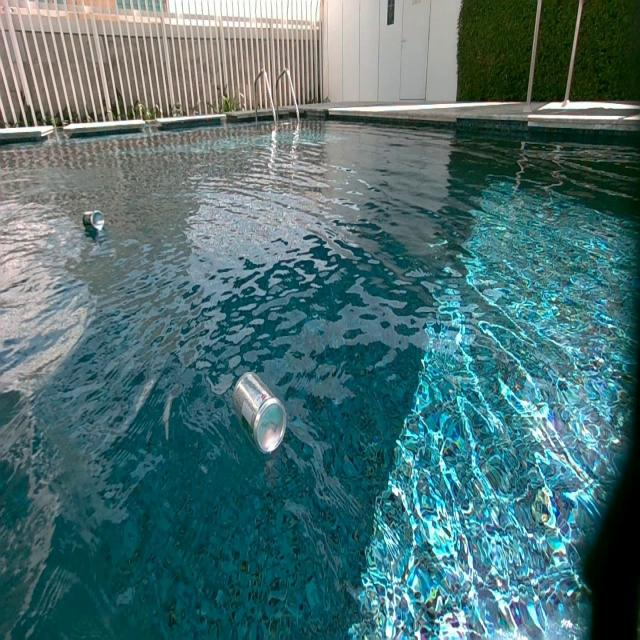Cans: (231, 373, 287, 458), (83, 210, 105, 232)
